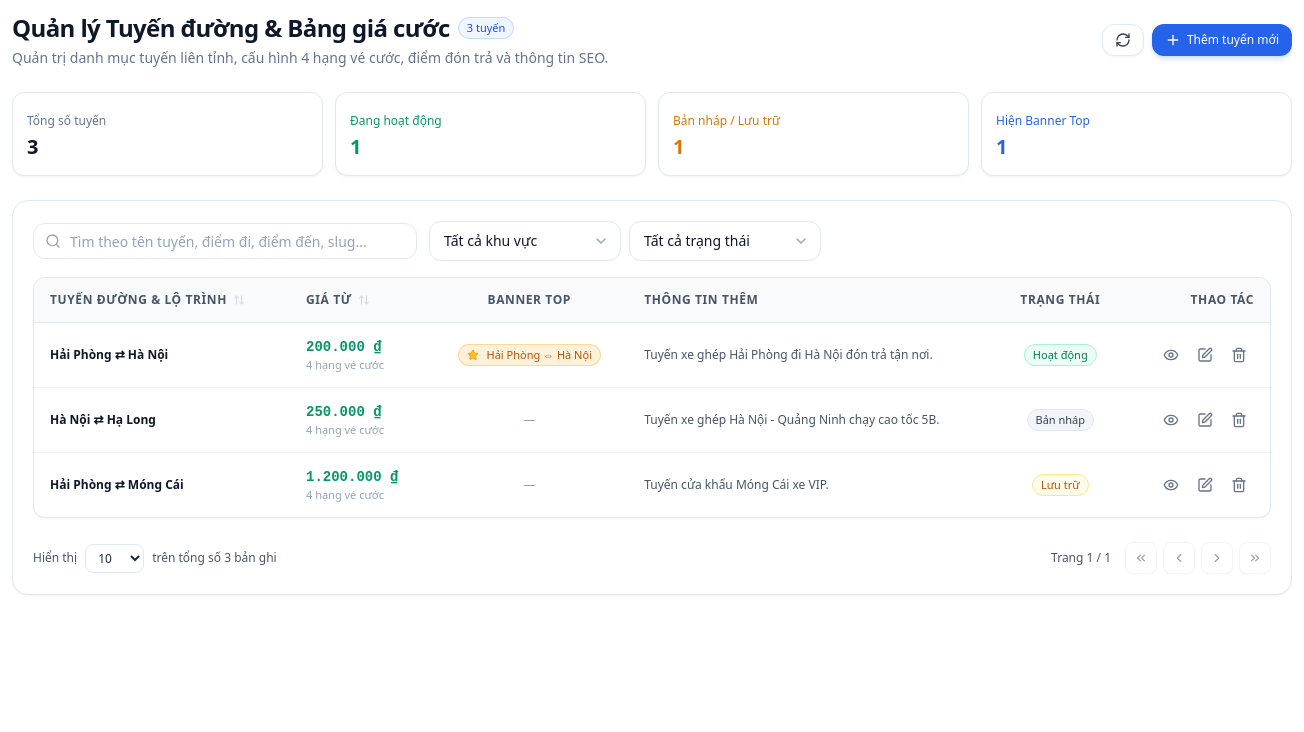
Test: Routes & Pricing Tiers Module (Task T114 & T115) › RouteList Component (Task T114) › lọc danh sách tuyến theo vùng miền (region filter)
Expected: the link "Hải Phòng ⇄ Hà Nội" is shown, top-left (50, 346), bottom-right (168, 363)
Lọc Hạ Long
Select "Hạ Long" in the dropdown with test id "region-filter" at [525, 241], box top-left (429, 221), bottom-right (621, 261)
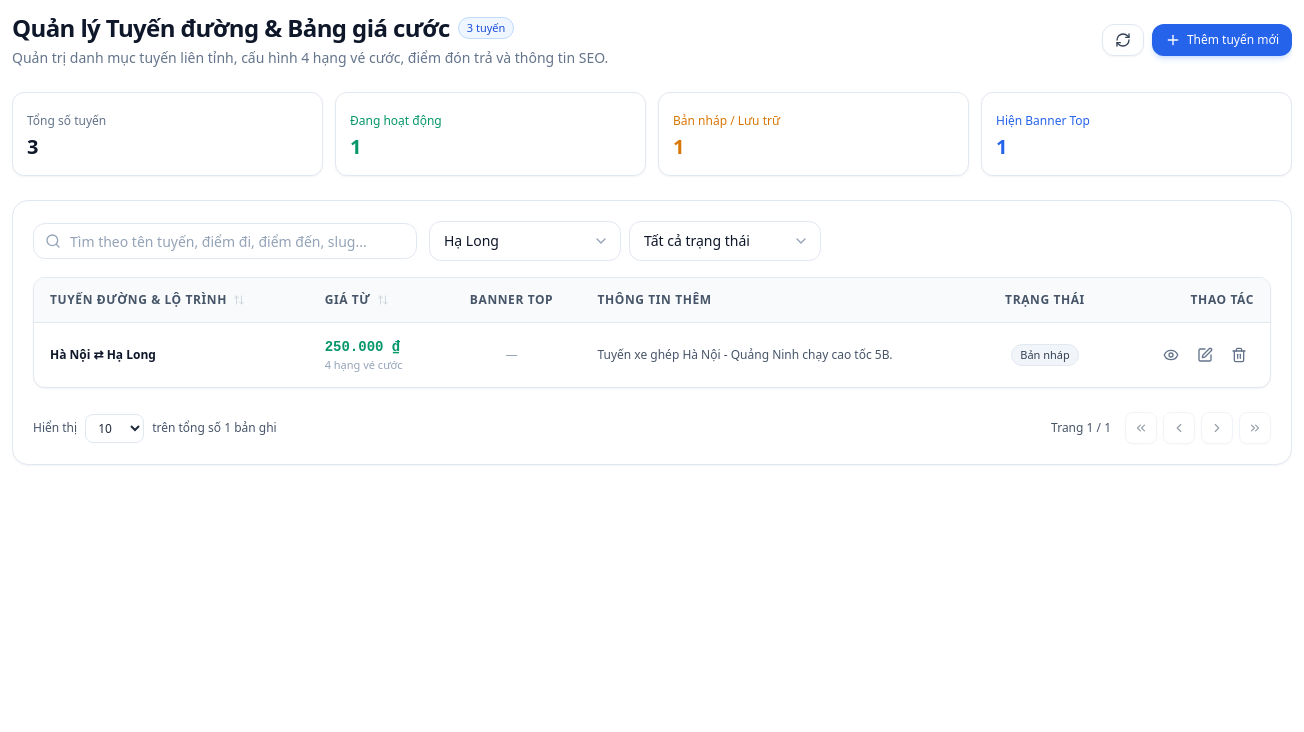
Expected: the link "Hà Nội ⇄ Hạ Long" is shown, top-left (50, 346), bottom-right (156, 363)
Expected: the link "Hải Phòng ⇄ Hà Nội" is gone
